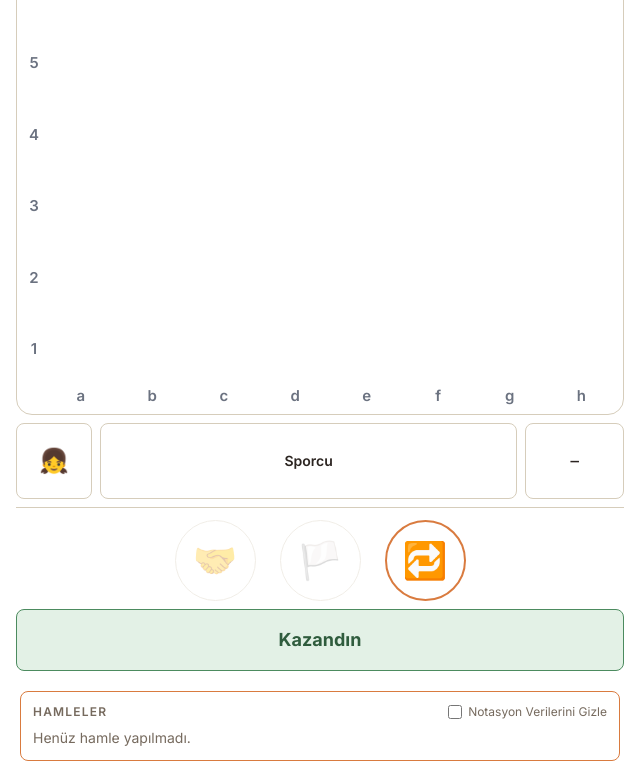
Test: LiveGame — Tekrar Oyna (madde 3, 2026-08-20) › teklif gönderildikten sonra "Rakip bekleniyor" gösterilir ve kart tekrar devre dışı kalır
(page scrolled)
Click the button named "Tekrar Oyna" at (425, 560), box [384,520,466,600]
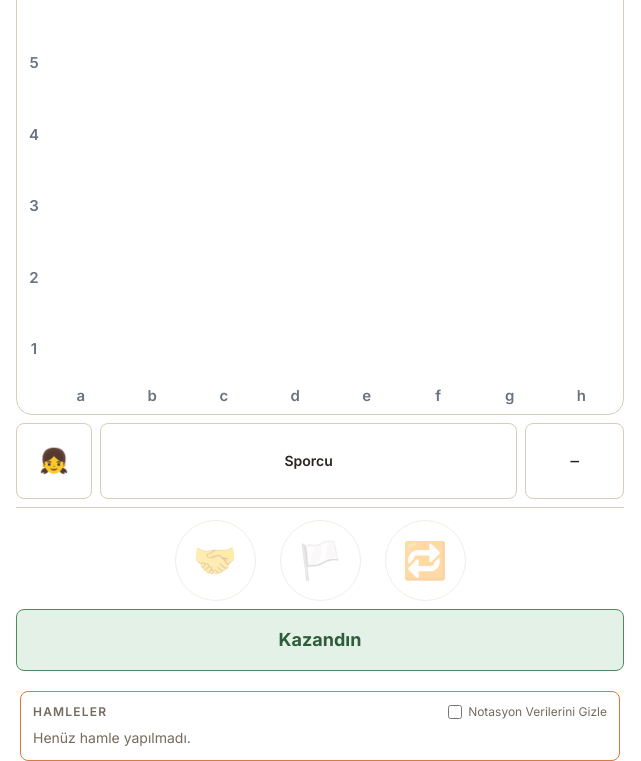
Now the button named "Tekrar Oyna" is disabled, box [384,520,466,600]
